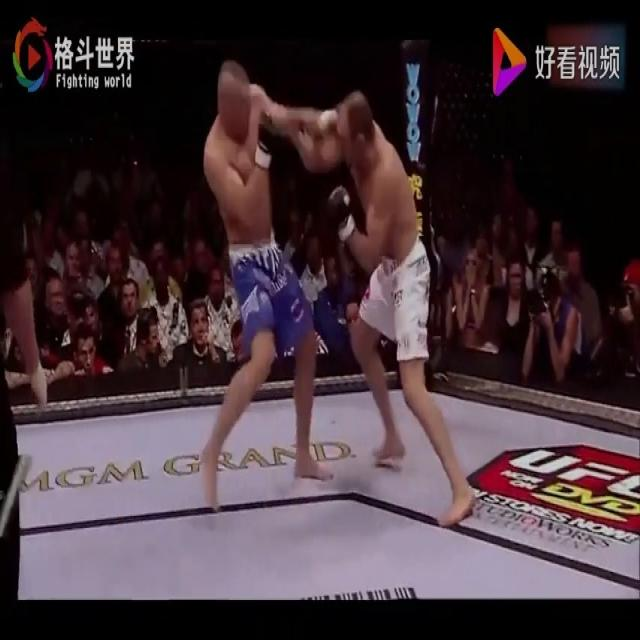fight: (172, 36, 479, 553)
